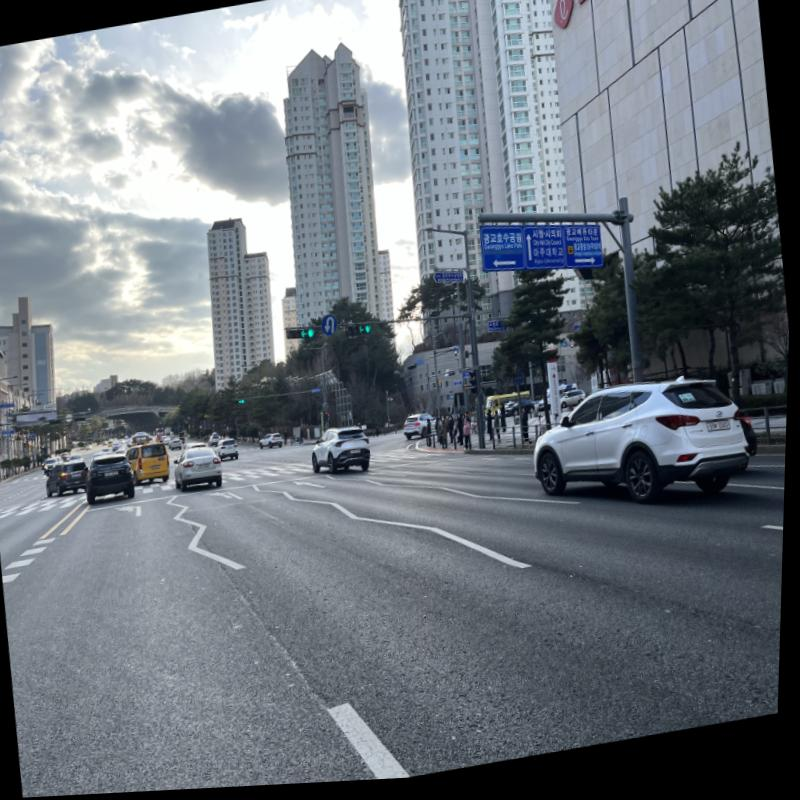green: (309, 332, 316, 341)
left: (302, 332, 309, 340)
